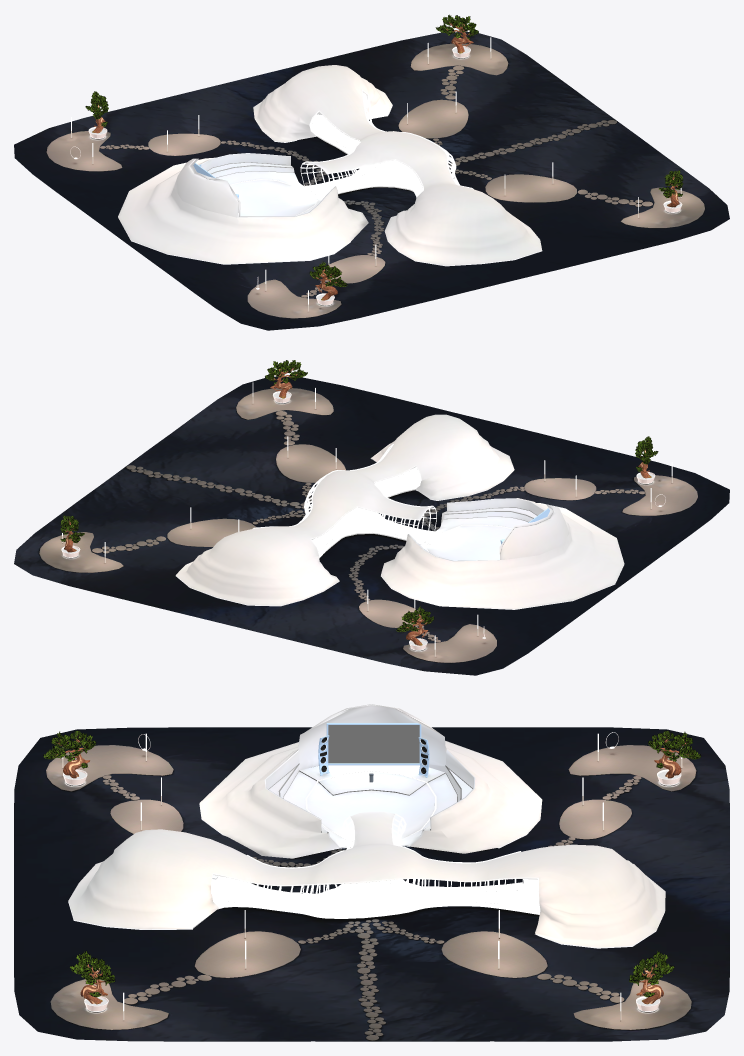
Rendered from hello_world.glb.
The picture shows the model from 3 angles, top to bottom: view 1: azimuth 30°, elevation 25°; view 2: azimuth 150°, elevation 25°; view 3: azimuth 270°, elevation 25°; orthographic projection. The views are drawn at different scales.
Size of the model in its own units: 135 by 13.64 by 130.
Materials: 20 (6 with a texture image).
